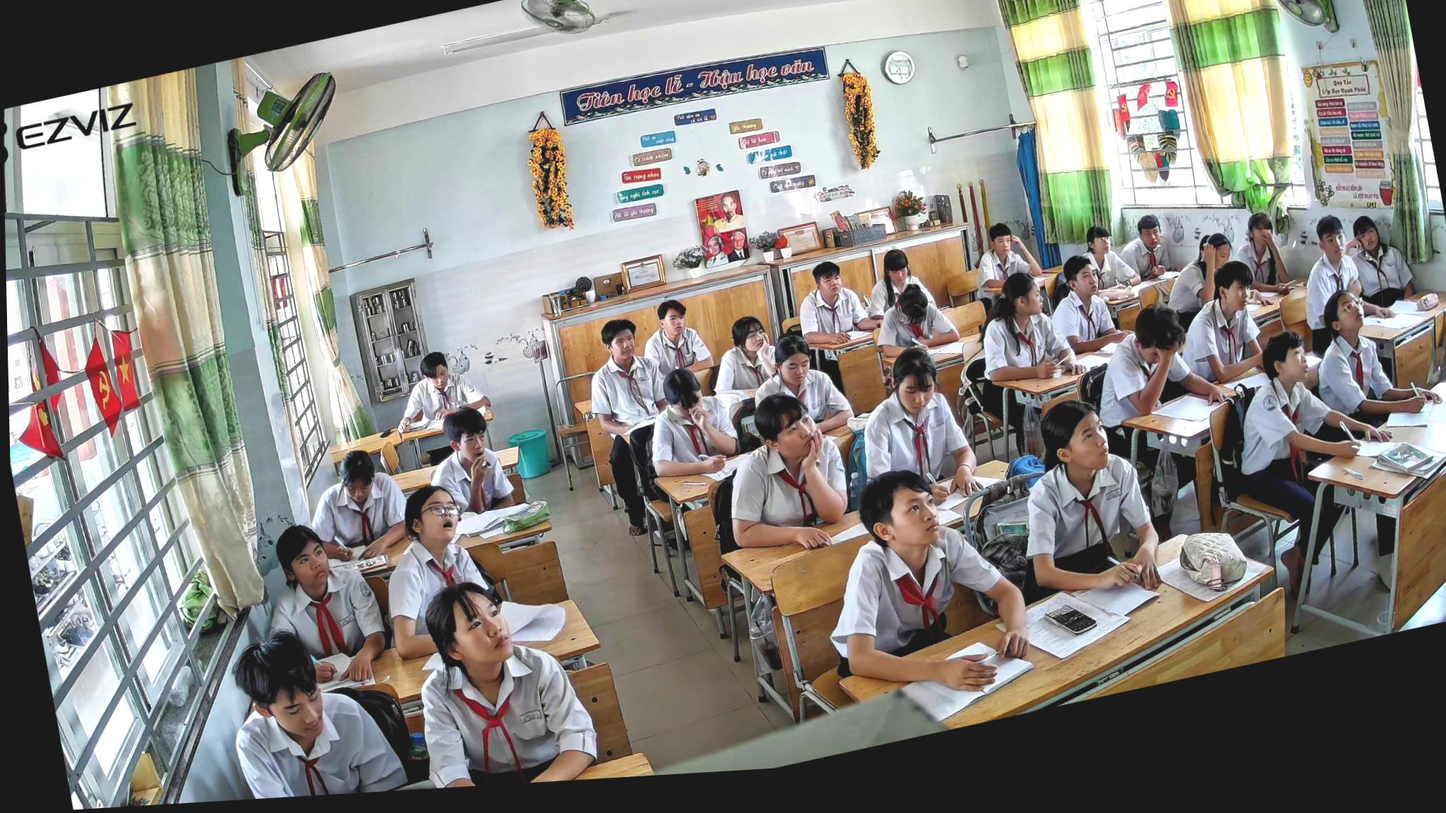person: (802, 445, 1040, 722), (1213, 311, 1417, 608), (395, 556, 610, 790), (984, 386, 1172, 621), (217, 606, 432, 801), (243, 508, 394, 703), (573, 309, 693, 542), (366, 474, 509, 667), (711, 381, 859, 567), (845, 335, 990, 521), (1300, 271, 1445, 434), (1079, 294, 1231, 448), (1171, 252, 1289, 392), (969, 260, 1089, 397), (788, 250, 895, 403), (1289, 205, 1397, 356), (298, 441, 416, 572), (418, 395, 530, 526), (743, 321, 859, 447), (637, 356, 747, 487), (1040, 245, 1138, 361), (385, 340, 495, 439), (1154, 227, 1253, 337), (1337, 206, 1420, 314), (867, 276, 962, 364), (634, 293, 718, 387), (702, 311, 784, 399), (967, 214, 1047, 302), (1232, 206, 1300, 306), (860, 242, 937, 324), (1077, 217, 1142, 299), (1109, 211, 1175, 289)
